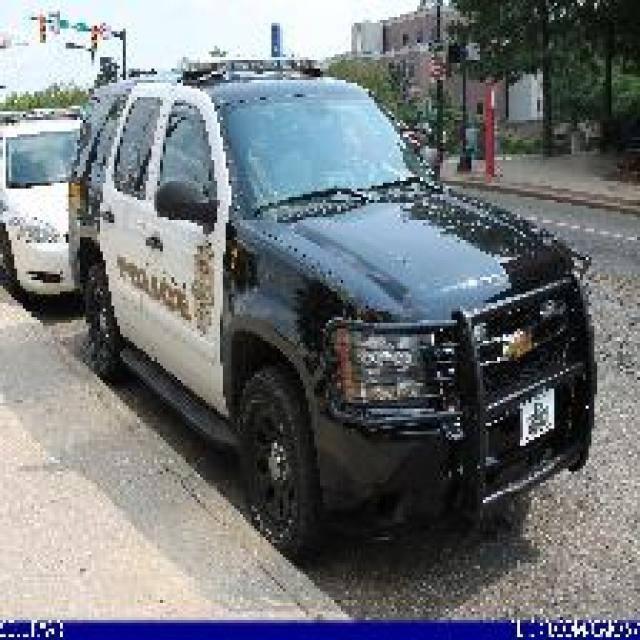emergency: (65, 64, 600, 558)
